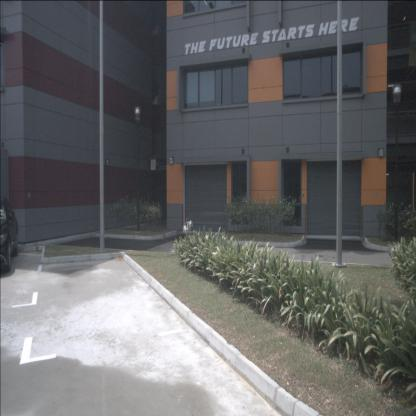vehicle-car: (0, 195, 19, 273)
